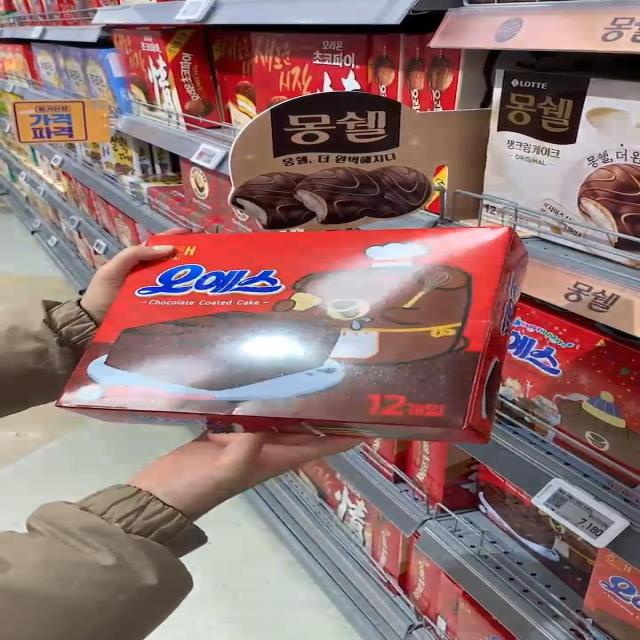ohYes: (80, 234, 510, 420), (487, 312, 640, 440)
